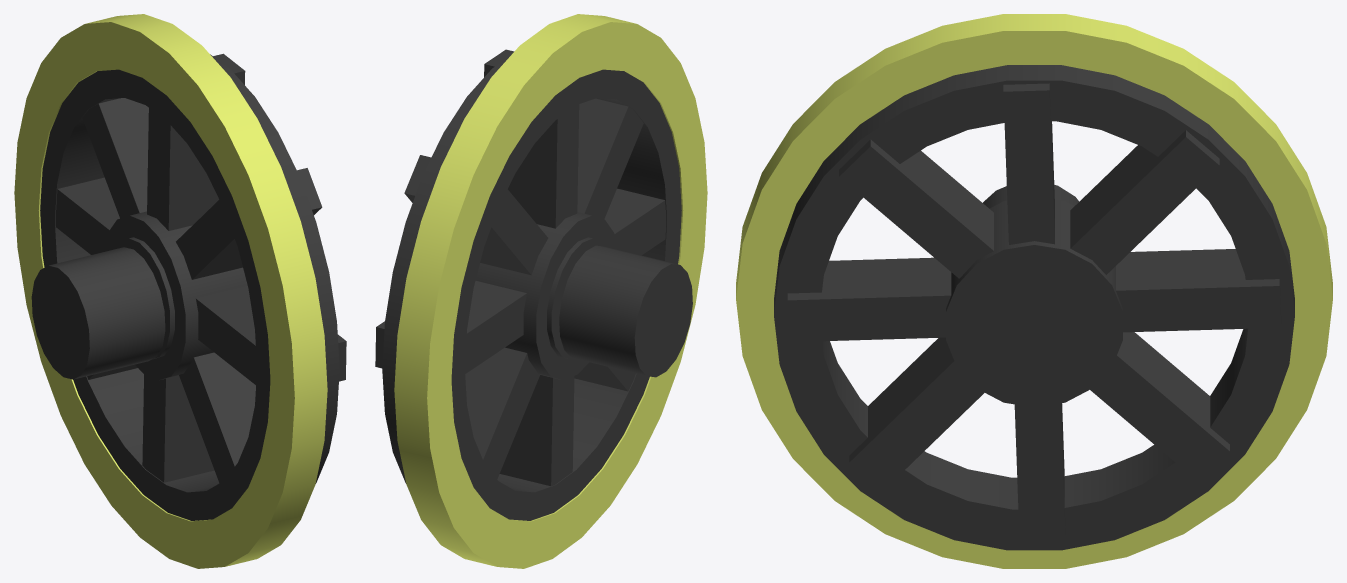
File: Loc_r6.fbx
The picture shows the model from 3 angles, left to right: view 1: azimuth 30°, elevation 25°; view 2: azimuth 150°, elevation 25°; view 3: azimuth 270°, elevation 25°; orthographic projection. The views are drawn at different scales.
Visible parts, largest first — view 1: Tube004; view 2: Tube004; view 3: Tube004.
Part boxes in pixels (left/top/right/bottom): Tube004: left=14, top=14, right=346, bottom=568; Tube004: left=375, top=14, right=707, bottom=568; Tube004: left=736, top=14, right=1332, bottom=568.
Bounding box in the file's own units: 228 × 619 × 622.
